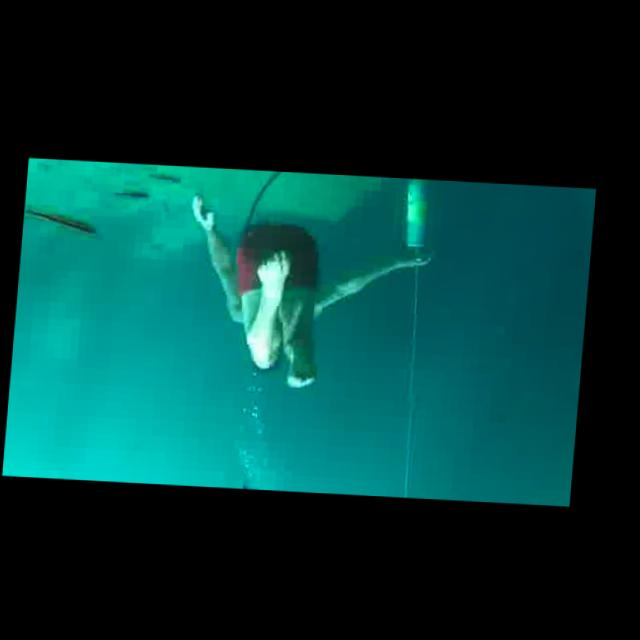human: (175, 179, 446, 397)
